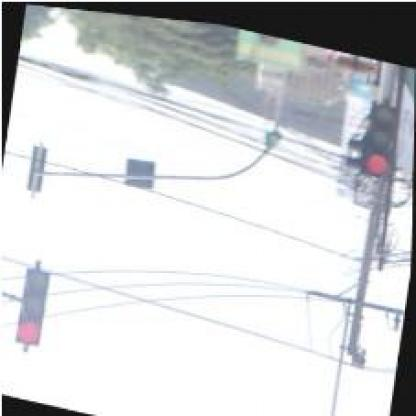red: (359, 91, 400, 173), (13, 263, 49, 345)
